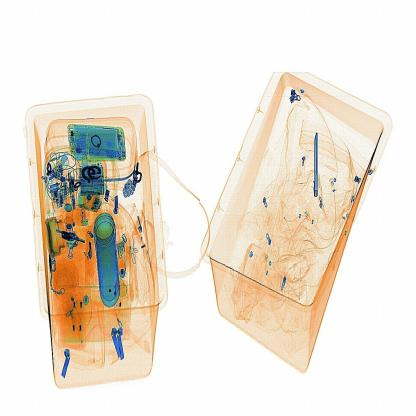pliers: (311, 130, 326, 207)
